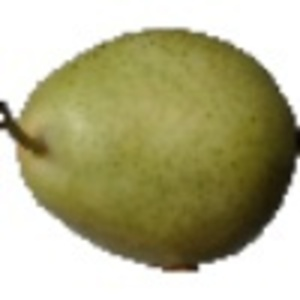pera: (1, 26, 300, 275)
